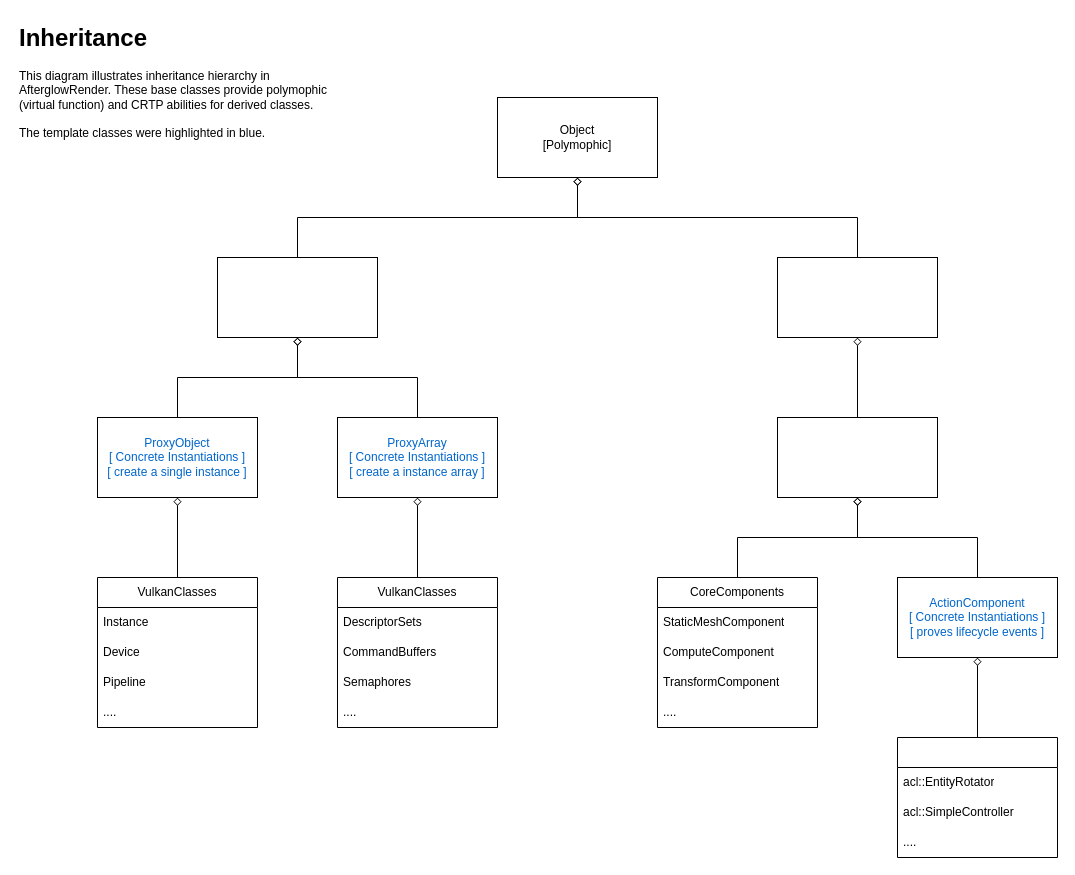
The diagram is 1075 pixels wide and 875 high, and some of its shapes have lost their labels. The box of each missing label's shape, as (x1, y1, x2, y2) in pixels:
ActionComponents: (896, 736, 1058, 858)
Component [ Concrete Instantiations ] [ CRTP ]: (776, 416, 938, 498)
ComponentBase [ As polymophic base ]: (776, 256, 938, 338)
ProxyTemplate [ Concrete Instantiations ] [ CRTP ]: (216, 256, 378, 338)
